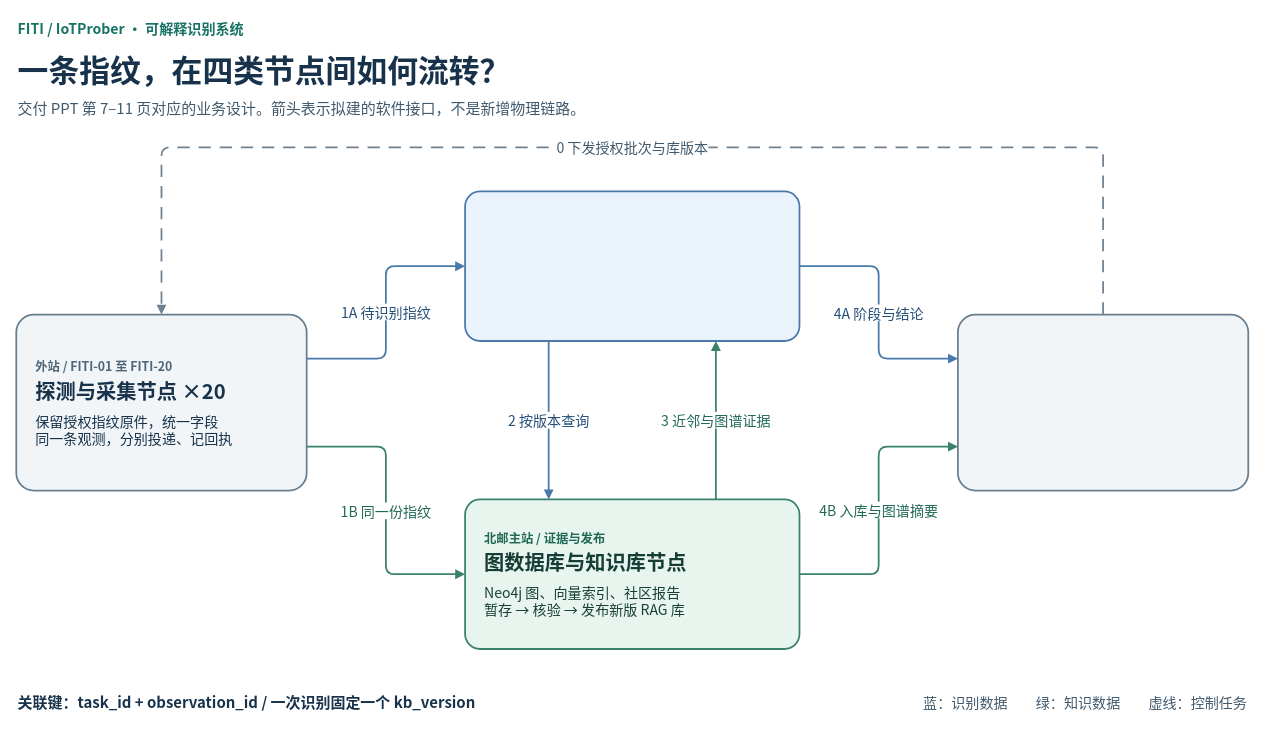
Image size: 1264x734. Some labels were removed from this diagram. Each missing label, with the box of its shape:
北邮主站 / 任务与展示 主控与可视化节点 按任务与观测关联两路回传 展示阶段证据、最终结论和库状态: (957, 313, 1249, 491)
北邮主站 / 在线识别 GPU 推理节点 Qwen 查询编码、三层检索编排 未见检测 → 条件漂移 → 双路合票: (464, 190, 800, 341)
